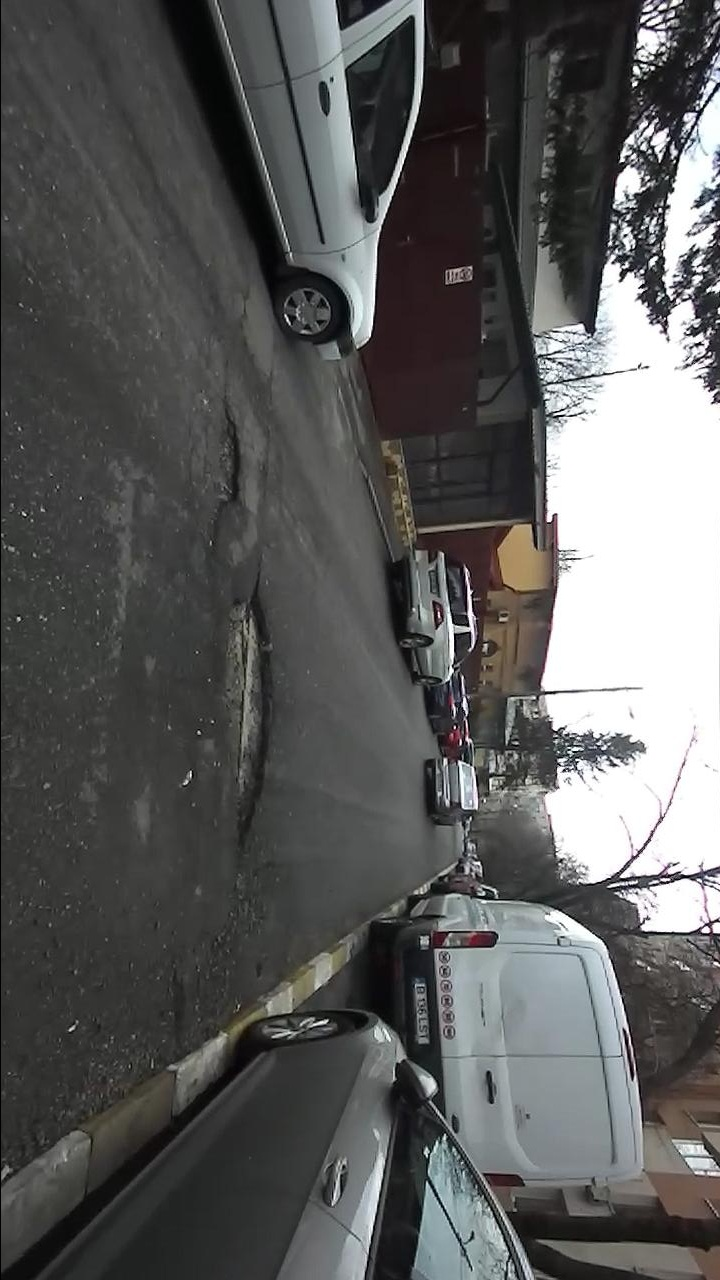pothole: (218, 581, 281, 862), (208, 399, 247, 536)
